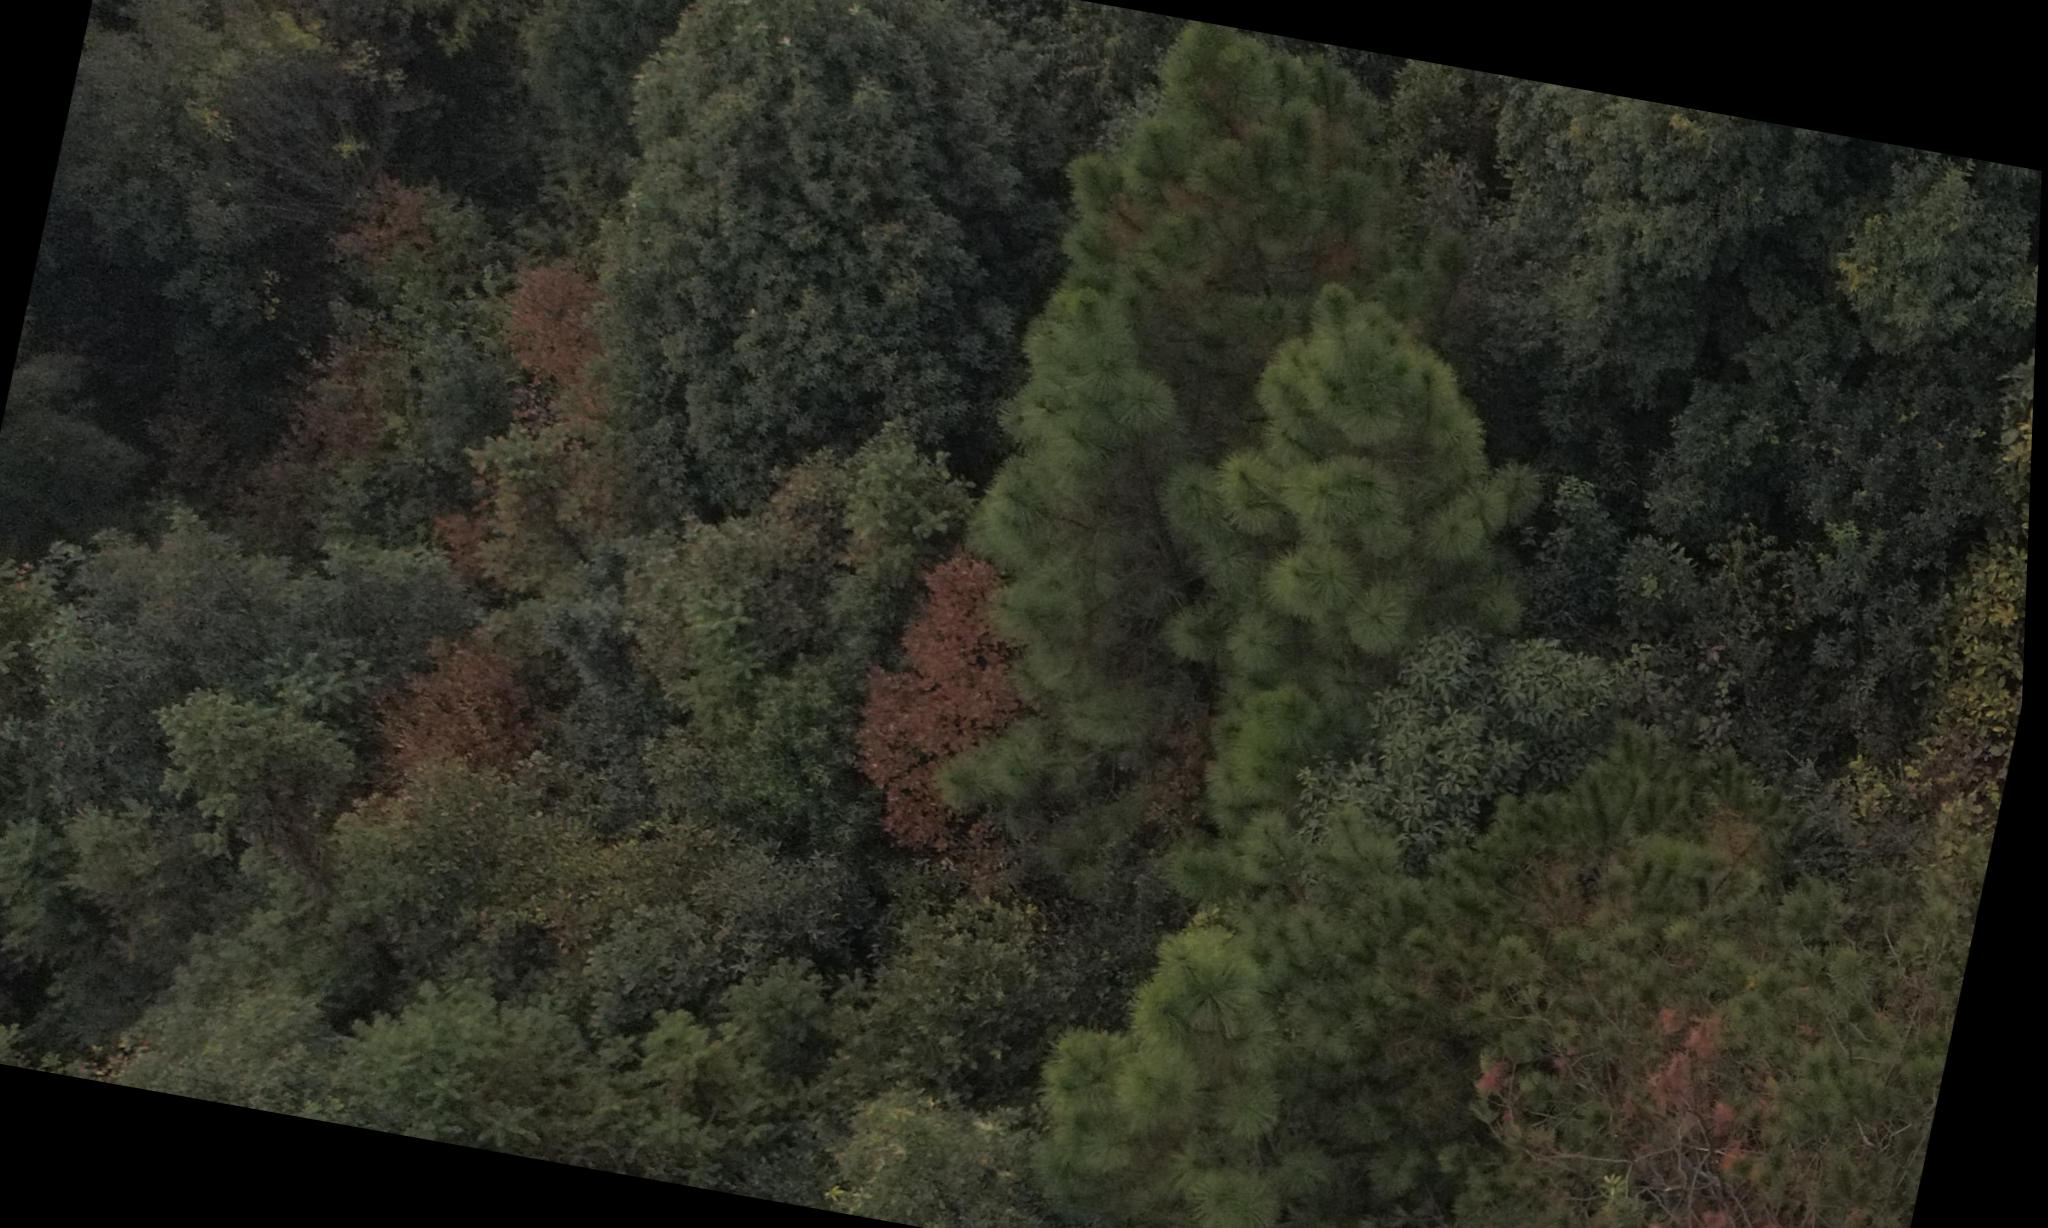light: (1457, 825, 1912, 1228)
